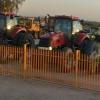Tractor: (37, 6, 98, 55)
